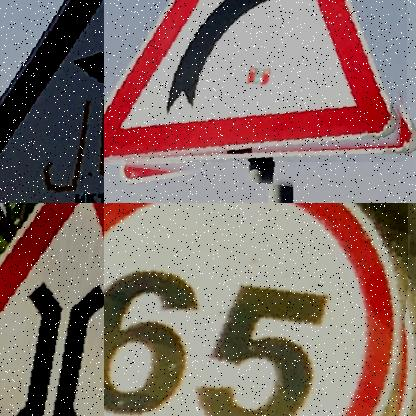Bridge Ahead: (0, 203, 104, 416)
Left bend: (0, 0, 104, 203)
Right bend: (104, 0, 406, 161)
Speed Limit -65 kmph-: (104, 203, 408, 416)
